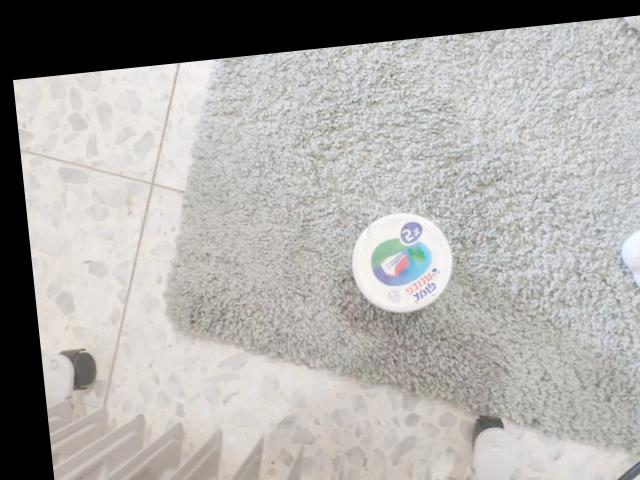cotage: (343, 207, 453, 319)
